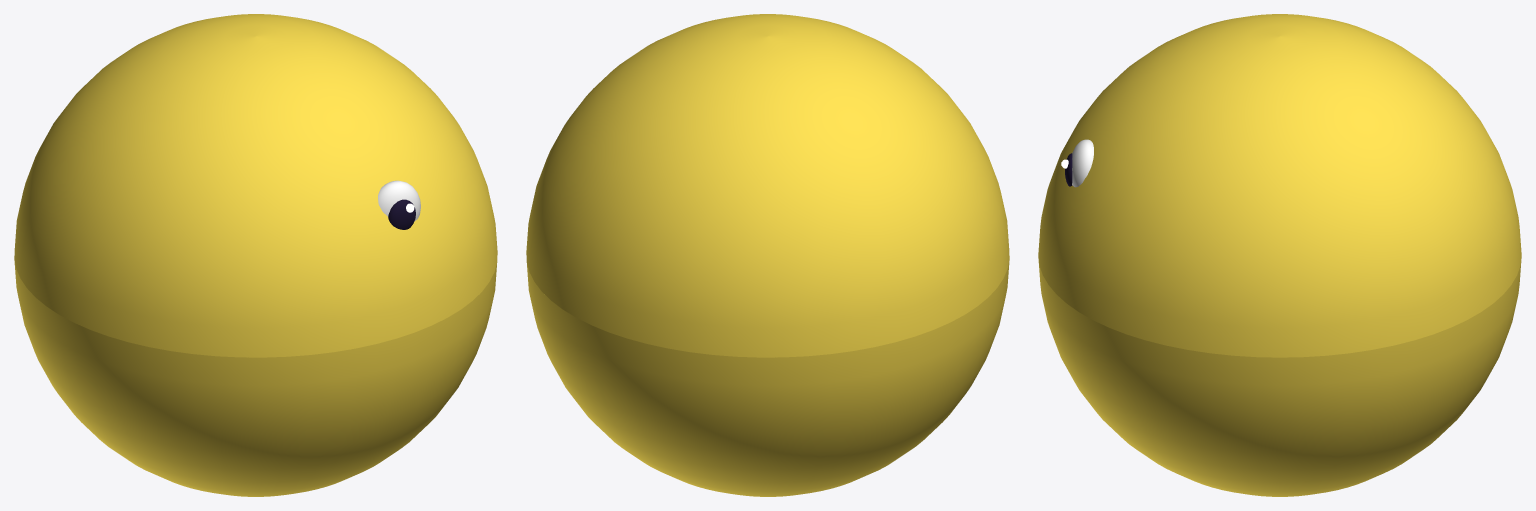
Rendered from pac.glb.
3 views of the same model, side by side, from view 1: azimuth 30°, elevation 25°; view 2: azimuth 150°, elevation 25°; view 3: azimuth 270°, elevation 25° (orthographic).
Visible parts, largest first — view 1: pac_polokoule_1, pac_polokoule_-1, pac_oko_0, pac_zornice_0; view 2: pac_polokoule_1, pac_polokoule_-1; view 3: pac_polokoule_1, pac_polokoule_-1, pac_oko_0.
Boxes of the visible parts, left/top/right/bottom form: pac_polokoule_1: left=14, top=14, right=497, bottom=357; pac_polokoule_-1: left=14, top=260, right=497, bottom=496; pac_oko_0: left=378, top=180, right=420, bottom=221; pac_zornice_0: left=388, top=199, right=415, bottom=229; pac_polokoule_1: left=526, top=14, right=1009, bottom=357; pac_polokoule_-1: left=526, top=260, right=1009, bottom=496; pac_polokoule_1: left=1038, top=14, right=1521, bottom=357; pac_polokoule_-1: left=1038, top=258, right=1521, bottom=496; pac_oko_0: left=1072, top=139, right=1093, bottom=187.
Size of the model in its own units: 1 by 1 by 1.
